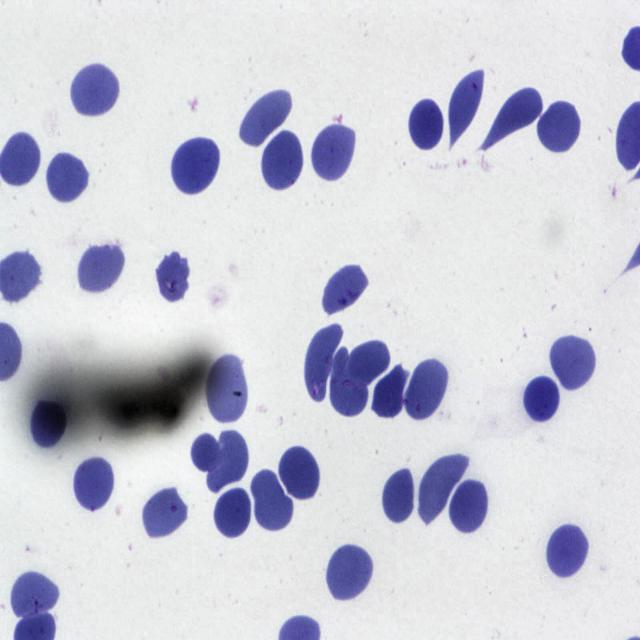red blood cell: (480, 87, 543, 152), (417, 453, 470, 526), (204, 351, 250, 428), (238, 88, 292, 148), (304, 322, 344, 403), (170, 134, 221, 197), (548, 331, 598, 394), (325, 541, 375, 604), (69, 60, 121, 119), (250, 467, 295, 535), (448, 68, 485, 150), (260, 127, 305, 194), (310, 120, 357, 184), (404, 354, 449, 420), (140, 483, 190, 541), (328, 348, 369, 418), (545, 520, 591, 582), (76, 239, 126, 294), (277, 442, 322, 503), (72, 453, 116, 515), (206, 429, 250, 491), (536, 98, 582, 156), (321, 262, 370, 316), (448, 476, 490, 538), (44, 150, 90, 206), (10, 570, 60, 620), (370, 362, 412, 421), (153, 248, 192, 306), (29, 395, 70, 450), (406, 97, 446, 153), (340, 340, 390, 384), (380, 468, 415, 527), (522, 373, 561, 424), (214, 488, 250, 538)
